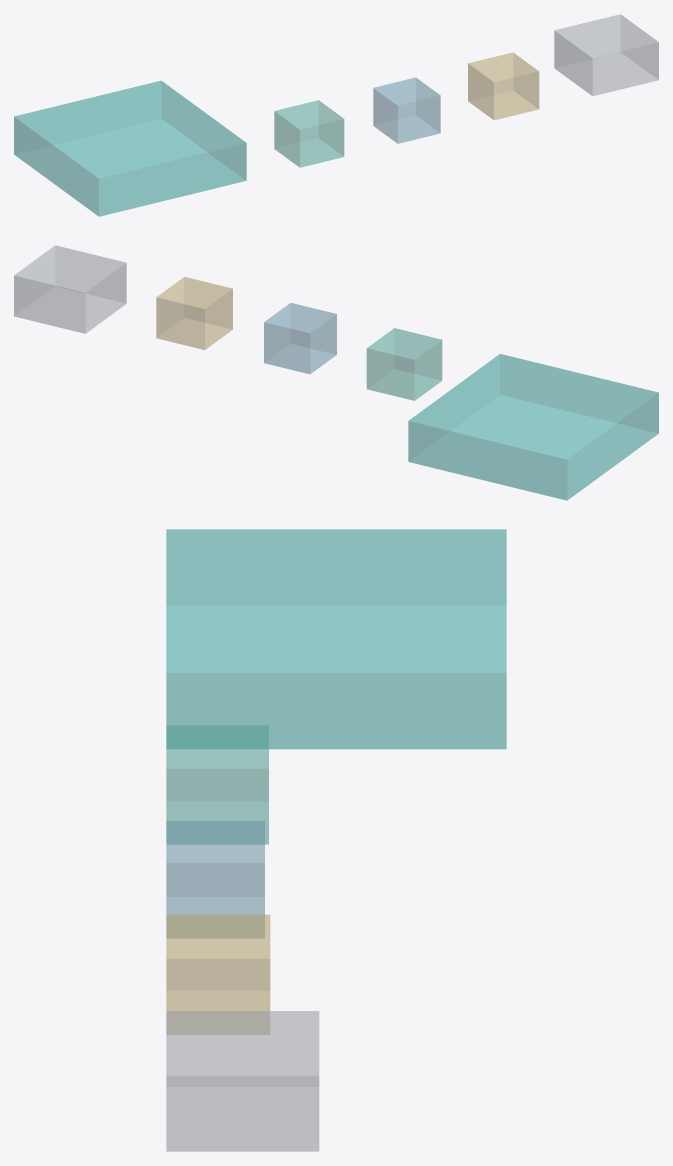
Rendered from spaces.glb.
The picture shows the model from 3 angles, top to bottom: view 1: azimuth 30°, elevation 25°; view 2: azimuth 150°, elevation 25°; view 3: azimuth 270°, elevation 25°; orthographic projection. The views are drawn at different scales.
Visible parts, largest first — view 1: zone_storey0_open_office, zone_storey0_circulation, zone_storey0_amenity, zone_storey0_office, zone_storey0_meeting; view 2: zone_storey0_open_office, zone_storey0_circulation, zone_storey0_amenity, zone_storey0_office, zone_storey0_meeting; view 3: zone_storey0_open_office, zone_storey0_circulation, zone_storey0_amenity, zone_storey0_office, zone_storey0_meeting.
Boxes of the visible parts, x1,y1,x2,y2 form: zone_storey0_open_office: (14,81,246,216); zone_storey0_circulation: (554,14,658,95); zone_storey0_amenity: (468,52,539,120); zone_storey0_office: (274,100,344,167); zone_storey0_meeting: (373,77,440,143); zone_storey0_open_office: (408,354,658,500); zone_storey0_circulation: (14,245,126,333); zone_storey0_amenity: (156,277,232,349); zone_storey0_office: (366,328,442,400); zone_storey0_meeting: (264,303,336,374); zone_storey0_open_office: (166,529,506,749); zone_storey0_circulation: (166,1011,319,1151); zone_storey0_amenity: (166,914,270,1034); zone_storey0_office: (166,725,268,844); zone_storey0_meeting: (166,821,264,938).
Bounding box in the file's own units: 52.37 × 3.4 × 13.79.
